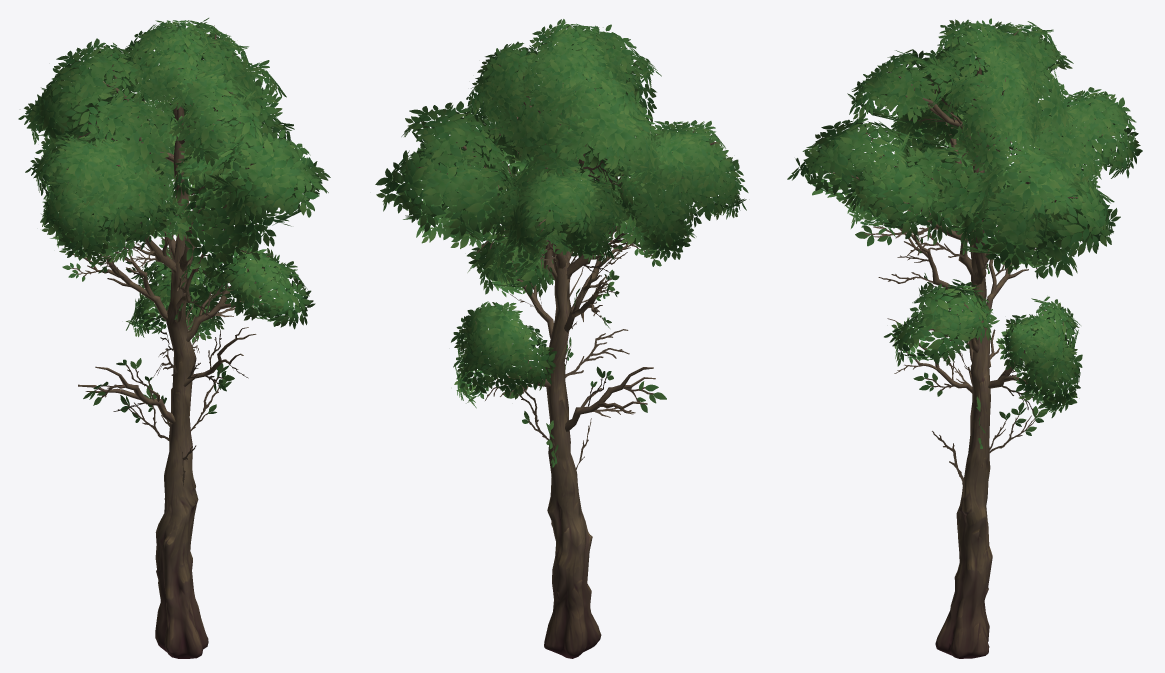
File: SM_FW01_Tree_B_07.fbx
3 views of the same model, side by side, from view 1: azimuth 30°, elevation 25°; view 2: azimuth 150°, elevation 25°; view 3: azimuth 270°, elevation 25° (orthographic).
Visible parts, largest first — view 1: SM_FW01_Tree_B_07_LOD0; view 2: SM_FW01_Tree_B_07_LOD0; view 3: SM_FW01_Tree_B_07_LOD0.
Part boxes in pixels (<box>): SM_FW01_Tree_B_07_LOD0: <box>18,18,330,658</box>; SM_FW01_Tree_B_07_LOD0: <box>375,19,748,658</box>; SM_FW01_Tree_B_07_LOD0: <box>787,18,1142,658</box>.
Size of what is drawn, in the model's own units: 4.32 by 8.63 by 4.54.
